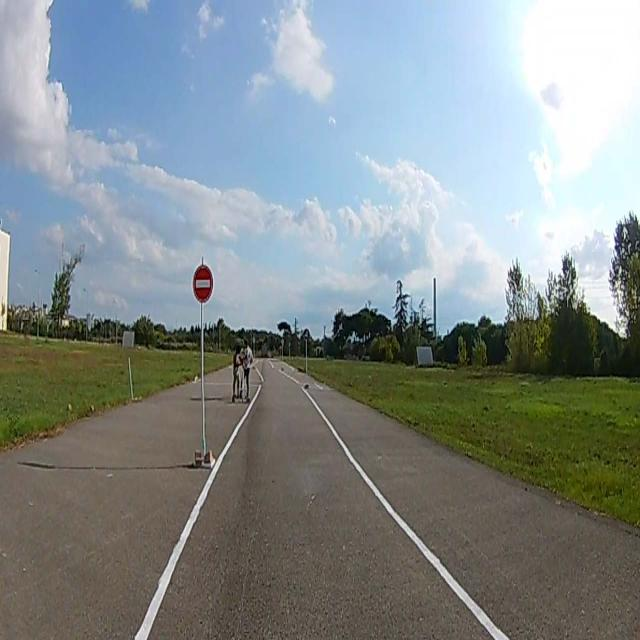girisyok: (193, 268, 211, 303)
